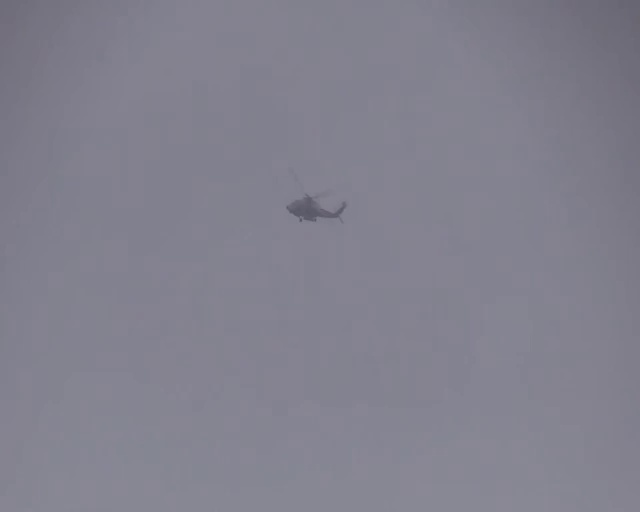HELICOPTER: (285, 165, 348, 223)
